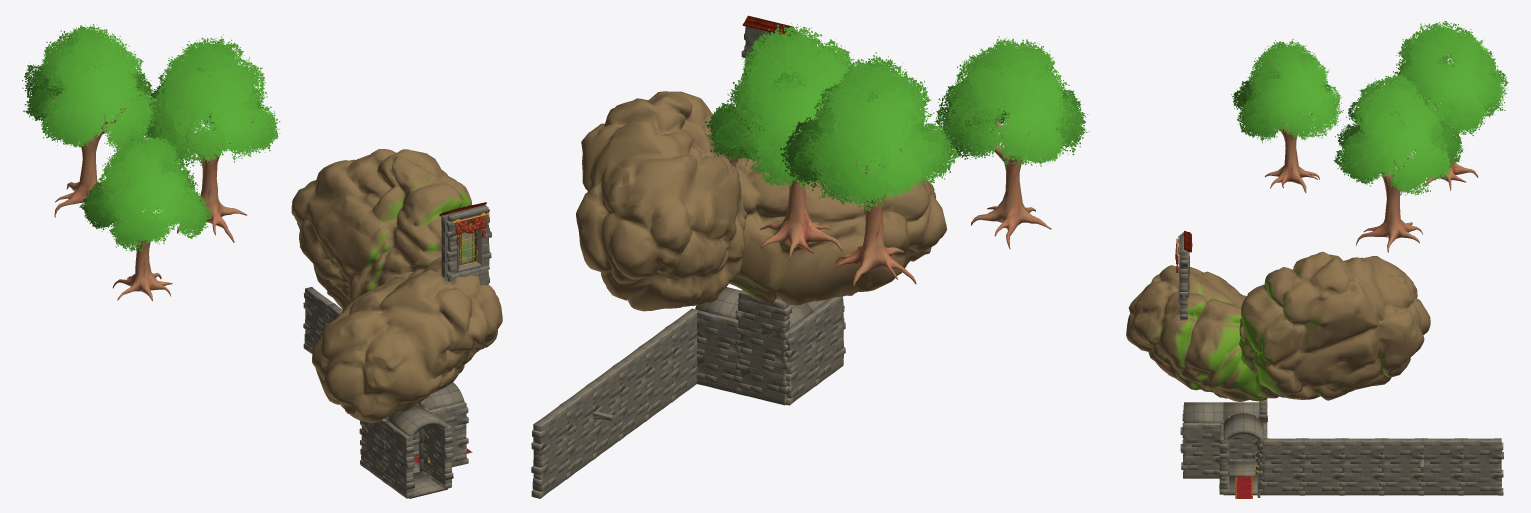
File: cell_x-2_z-1_render.gltf
The picture shows the model from 3 angles, left to right: view 1: azimuth 30°, elevation 25°; view 2: azimuth 150°, elevation 25°; view 3: azimuth 270°, elevation 25°; orthographic projection. The views are drawn at different scales.
Parts seen in each view (by area): view 1: SM_ENV_cliff_castle_01_LOD0.047, SM_ENV_cliff_castle_01_LOD0.028, SM_ENV_tree_castle_01_LOD0.007, SM_ENV_tree_castle_01_LOD0.034, SM_ENV_tree_castle_01_LOD0.048, SM_MOD_wall_big_windows_castle_LOD0.019, SM_MOD_wall_big_castle_LOD0.303, SM_MOD_wall_big_castle_LOD0.079, SM_MOD_wall_big_castle_LOD0.213, SM_MOD_wall_big_castle_LOD0.039, SM_MOD_wall_big_castle_LOD0.330, SM_MOD_ceiling_round_castle_LOD0.001 (+2 smaller); view 2: SM_ENV_cliff_castle_01_LOD0.028, SM_ENV_tree_castle_01_LOD0.007, SM_ENV_cliff_castle_01_LOD0.047, SM_ENV_tree_castle_01_LOD0.048, SM_ENV_tree_castle_01_LOD0.034, SM_MOD_wall_big_castle_LOD0.151, SM_MOD_wall_big_castle_LOD0.071, SM_MOD_wall_big_castle_LOD0.330, SM_MOD_wall_big_castle_LOD0.039, SM_MOD_wall_big_castle_LOD0.280, SM_MOD_wall_big_castle_LOD0.189, SM_MOD_wall_big_castle_LOD0.316 (+5 smaller); view 3: SM_ENV_cliff_castle_01_LOD0.028, SM_ENV_tree_castle_01_LOD0.034, SM_ENV_cliff_castle_01_LOD0.047, SM_ENV_tree_castle_01_LOD0.048, SM_ENV_tree_castle_01_LOD0.007, SM_MOD_wall_big_castle_LOD0.330, SM_MOD_wall_big_castle_LOD0.328, SM_MOD_wall_big_castle_LOD0.189, SM_MOD_wall_big_castle_LOD0.280, SM_MOD_wall_big_castle_LOD0.157, SM_MOD_wall_big_castle_LOD0.316, SM_MOD_wall_big_castle_LOD0.079 (+6 smaller).
Part boxes in pixels (left/top/right/bottom): SM_ENV_cliff_castle_01_LOD0.047: left=312, top=257, right=502, bottom=422; SM_ENV_cliff_castle_01_LOD0.028: left=291, top=149, right=475, bottom=310; SM_ENV_tree_castle_01_LOD0.007: left=22, top=24, right=161, bottom=217; SM_ENV_tree_castle_01_LOD0.034: left=142, top=34, right=280, bottom=242; SM_ENV_tree_castle_01_LOD0.048: left=79, top=133, right=212, bottom=301; SM_MOD_wall_big_windows_castle_LOD0.019: left=446, top=205, right=491, bottom=278; SM_MOD_wall_big_castle_LOD0.303: left=382, top=420, right=414, bottom=498; SM_MOD_wall_big_castle_LOD0.079: left=423, top=411, right=453, bottom=489; SM_MOD_wall_big_castle_LOD0.213: left=428, top=401, right=468, bottom=467; SM_MOD_wall_big_castle_LOD0.039: left=360, top=418, right=386, bottom=480; SM_MOD_wall_big_castle_LOD0.330: left=303, top=287, right=333, bottom=353; SM_MOD_ceiling_round_castle_LOD0.001: left=387, top=404, right=447, bottom=436; SM_ENV_cliff_castle_01_LOD0.028: left=576, top=91, right=747, bottom=311; SM_ENV_tree_castle_01_LOD0.007: left=780, top=52, right=959, bottom=286; SM_ENV_cliff_castle_01_LOD0.047: left=729, top=115, right=946, bottom=304; SM_ENV_tree_castle_01_LOD0.048: left=934, top=36, right=1089, bottom=249; SM_ENV_tree_castle_01_LOD0.034: left=704, top=23, right=854, bottom=260; SM_MOD_wall_big_castle_LOD0.151: left=735, top=323, right=790, bottom=405; SM_MOD_wall_big_castle_LOD0.071: left=696, top=310, right=742, bottom=393; SM_MOD_wall_big_castle_LOD0.330: left=531, top=405, right=570, bottom=498; SM_MOD_wall_big_castle_LOD0.039: left=785, top=312, right=819, bottom=405; SM_MOD_wall_big_castle_LOD0.280: left=639, top=328, right=675, bottom=421; SM_MOD_wall_big_castle_LOD0.189: left=612, top=347, right=649, bottom=440; SM_MOD_wall_big_castle_LOD0.316: left=560, top=385, right=596, bottom=479; SM_ENV_cliff_castle_01_LOD0.028: left=1239, top=252, right=1430, bottom=400; SM_ENV_tree_castle_01_LOD0.034: left=1333, top=73, right=1463, bottom=252; SM_ENV_cliff_castle_01_LOD0.047: left=1126, top=265, right=1267, bottom=401; SM_ENV_tree_castle_01_LOD0.048: left=1231, top=39, right=1343, bottom=192; SM_ENV_tree_castle_01_LOD0.007: left=1390, top=21, right=1508, bottom=190; SM_MOD_wall_big_castle_LOD0.330: left=1458, top=438, right=1503, bottom=495; SM_MOD_wall_big_castle_LOD0.328: left=1260, top=438, right=1305, bottom=495; SM_MOD_wall_big_castle_LOD0.189: left=1339, top=438, right=1384, bottom=495; SM_MOD_wall_big_castle_LOD0.280: left=1299, top=438, right=1344, bottom=495; SM_MOD_wall_big_castle_LOD0.157: left=1379, top=438, right=1424, bottom=495; SM_MOD_wall_big_castle_LOD0.316: left=1418, top=438, right=1463, bottom=495; SM_MOD_wall_big_castle_LOD0.079: left=1180, top=422, right=1220, bottom=478.
Size of the model in its own units: 40.53 by 41.11 by 39.42.
10 materials, 9 textured.
